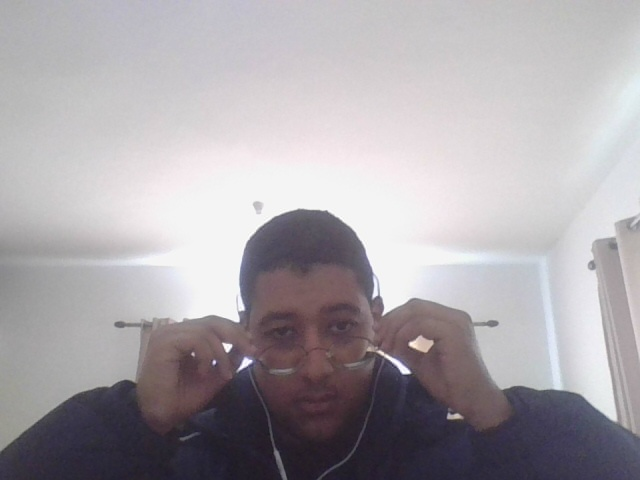real: (226, 204, 398, 448)
